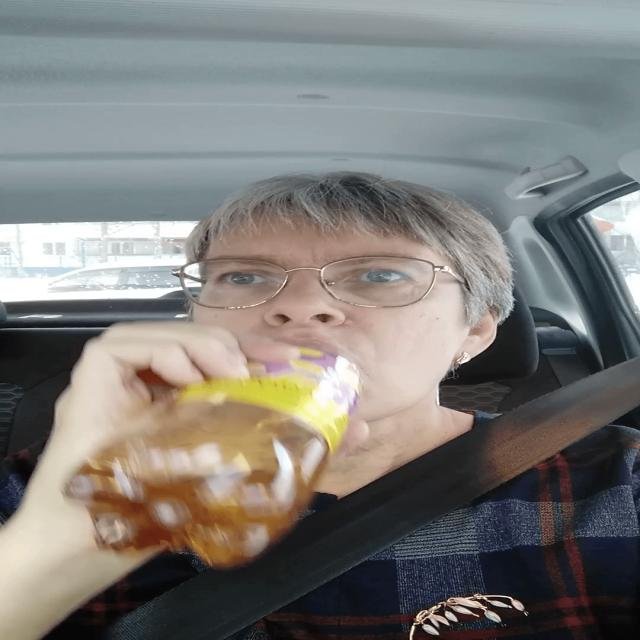3: (129, 358, 640, 636)
Seatbelt: (58, 336, 365, 566)
